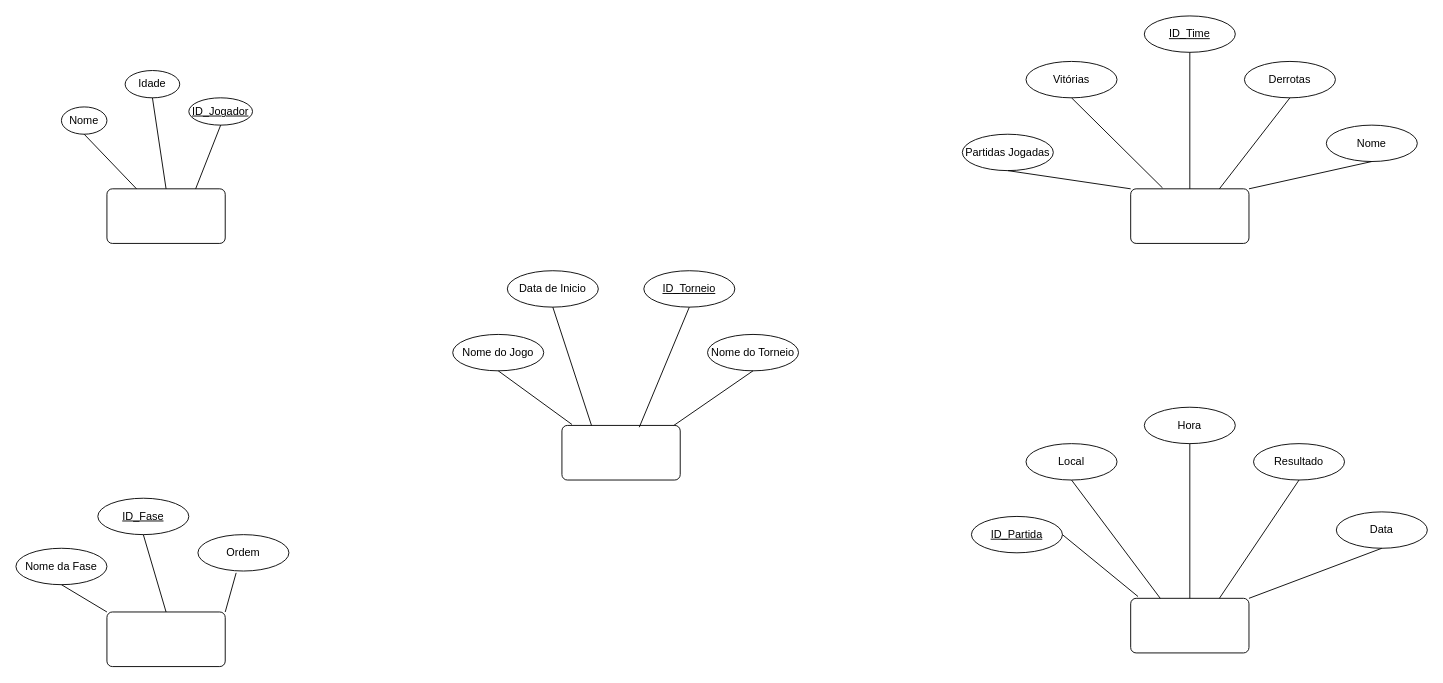
Image size: 1443x683. Some labels were removed from this diagram. The shapes that lost their labels are listed below. From the top down, each one's centre as x and y in pixels, then its label:
At (x=165, y=215): "Jogador".
At (x=1189, y=215): "Time".
At (x=620, y=452): "Torneio".
At (x=165, y=639): "Fase".
At (x=1189, y=625): "Partida".
